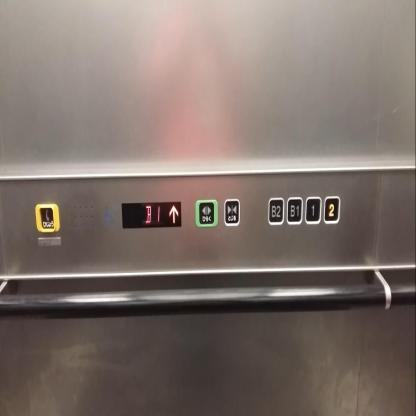1: (304, 194, 322, 226)
2: (323, 194, 341, 226)
B1: (286, 195, 303, 226)
B2: (268, 195, 284, 227)
call: (34, 201, 61, 234)
close: (222, 197, 240, 228)
led: (120, 199, 182, 230)
open: (194, 197, 220, 229)
